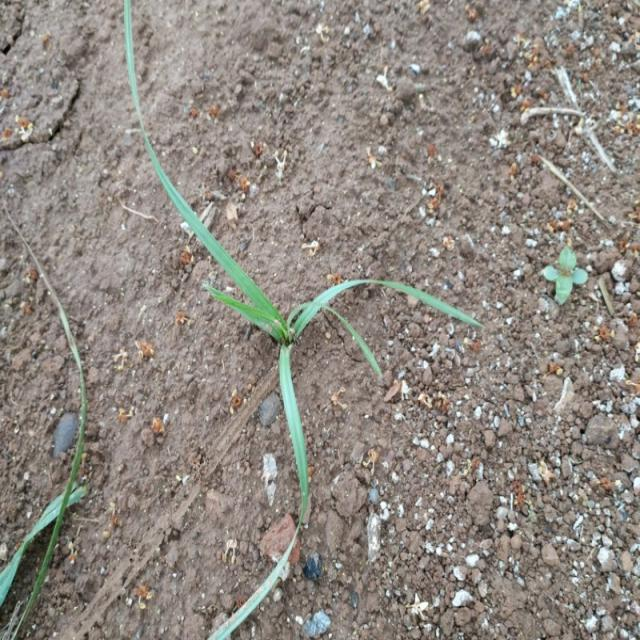sedge: (99, 56, 419, 529)
